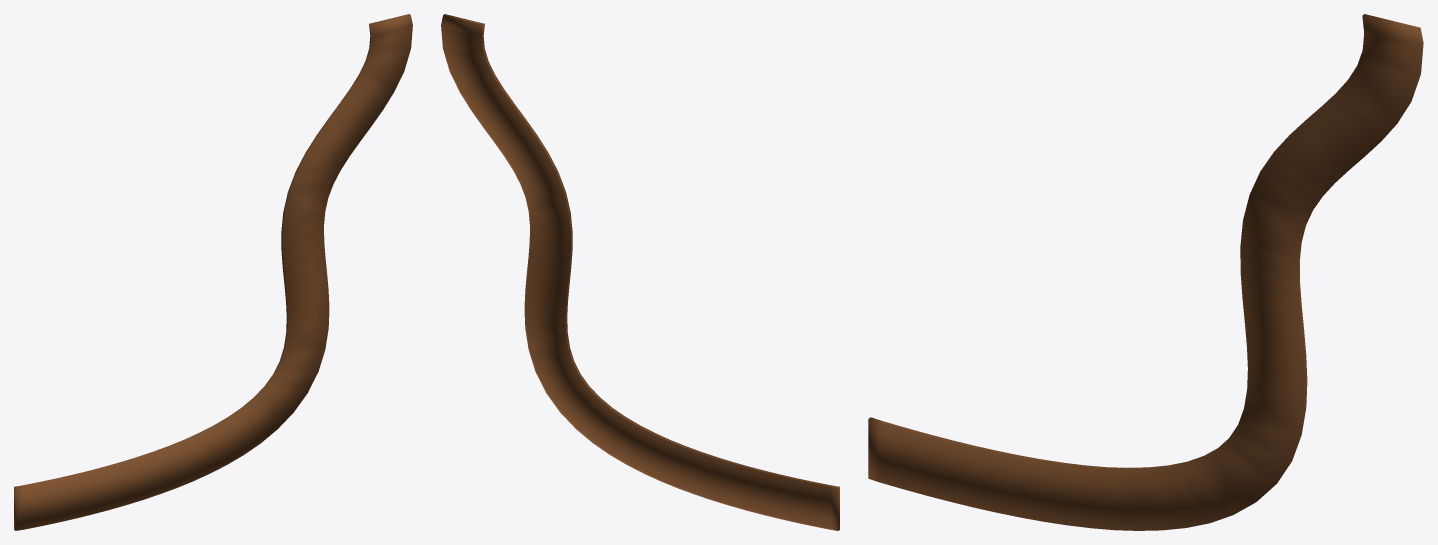
File: Road.fbx
The picture shows the model from 3 angles, left to right: view 1: azimuth 30°, elevation 25°; view 2: azimuth 150°, elevation 25°; view 3: azimuth 330°, elevation 25°; orthographic projection. The views are drawn at different scales.
Parts seen in each view (by area): view 1: Road; view 2: Road; view 3: Road.
Part boxes in pixels (box(x1,y1,x2,y2)): Road: box(14, 14, 412, 530); Road: box(441, 14, 839, 530); Road: box(868, 14, 1423, 530).
Size of what is drawn, in the model's own units: 19.32 by 19.59 by 0.1365.
